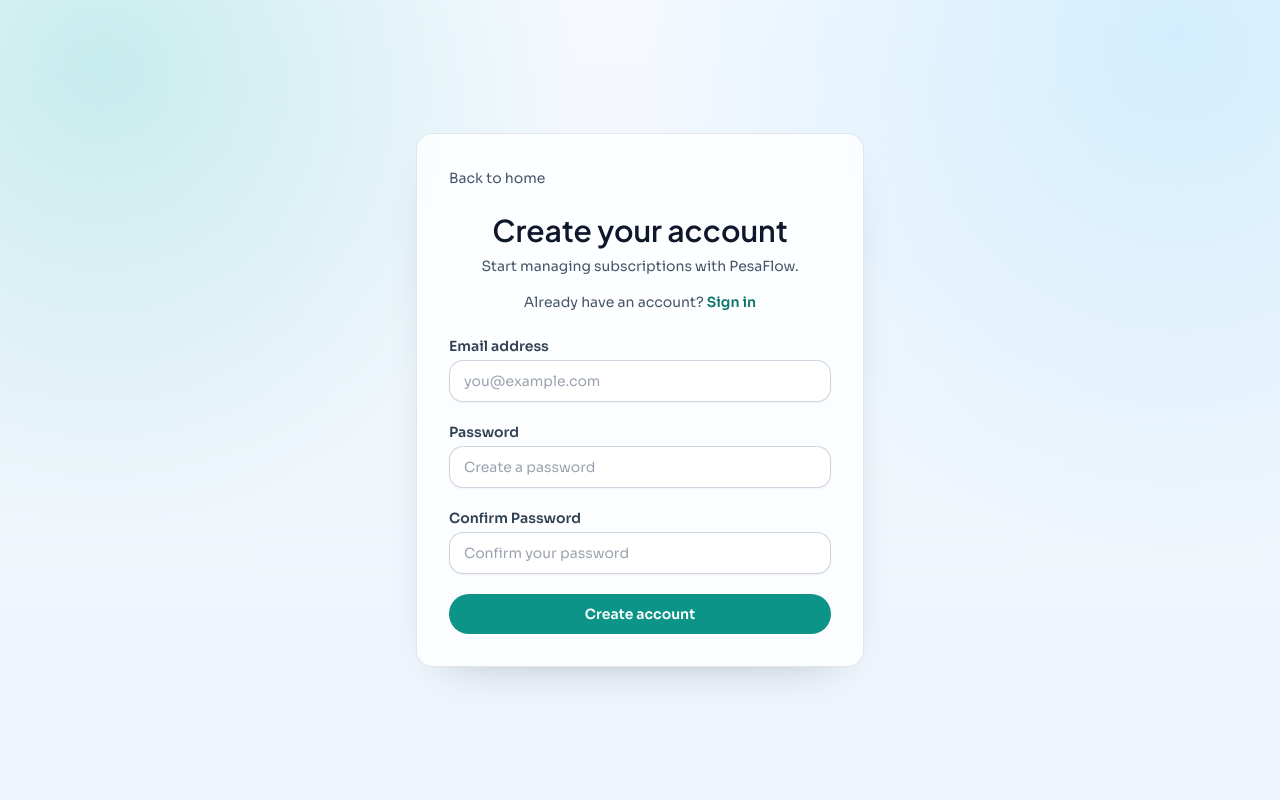
Test: SignupPage › should show error when passwords do not match
Type "test@example.com" into the field labelled "Email address". click: (640, 381)
box: [449,360,831,402]
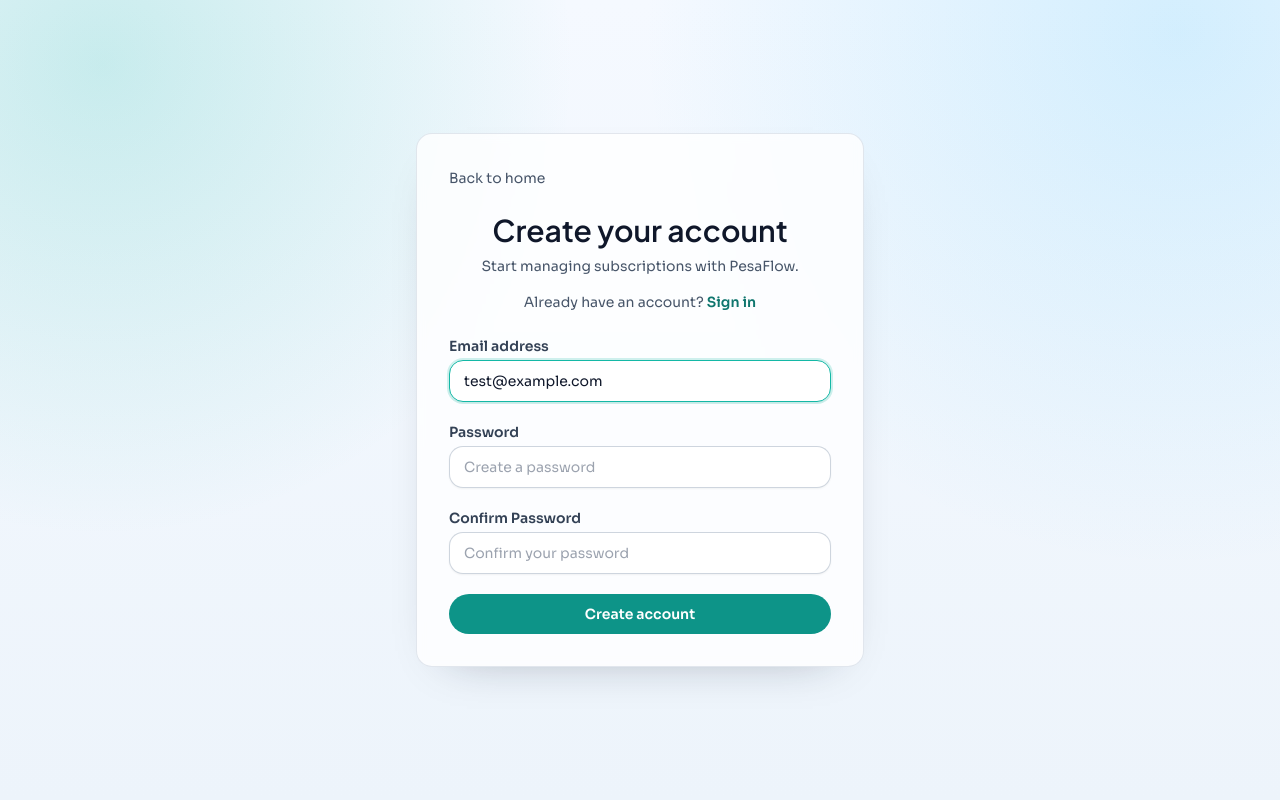
Type "password123" into the password field labelled "Password". click: (640, 467)
box: [449,446,831,488]
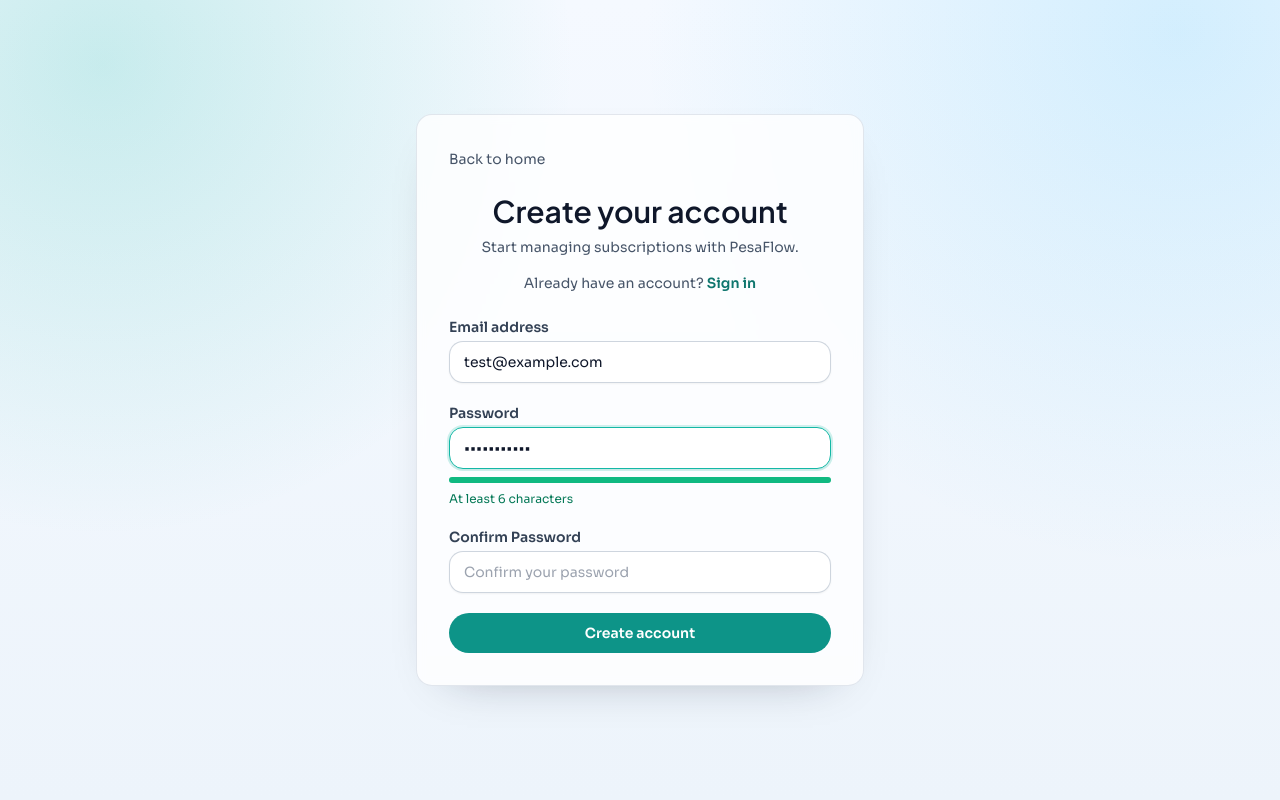
Type "differentpassword" into the password field labelled "Confirm Password". click: (640, 572)
box: [449,551,831,593]
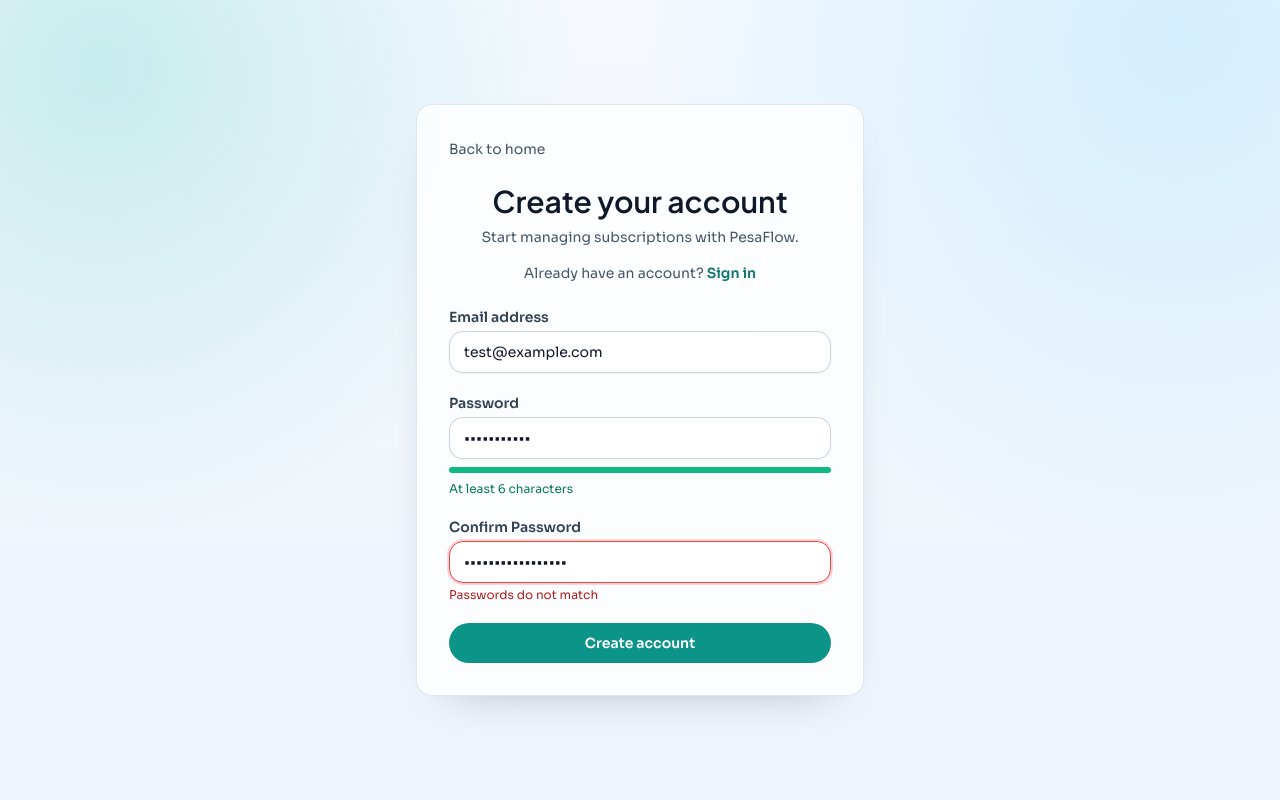
Click the button "Create account". click: click(640, 643)
box: [449,623,831,663]
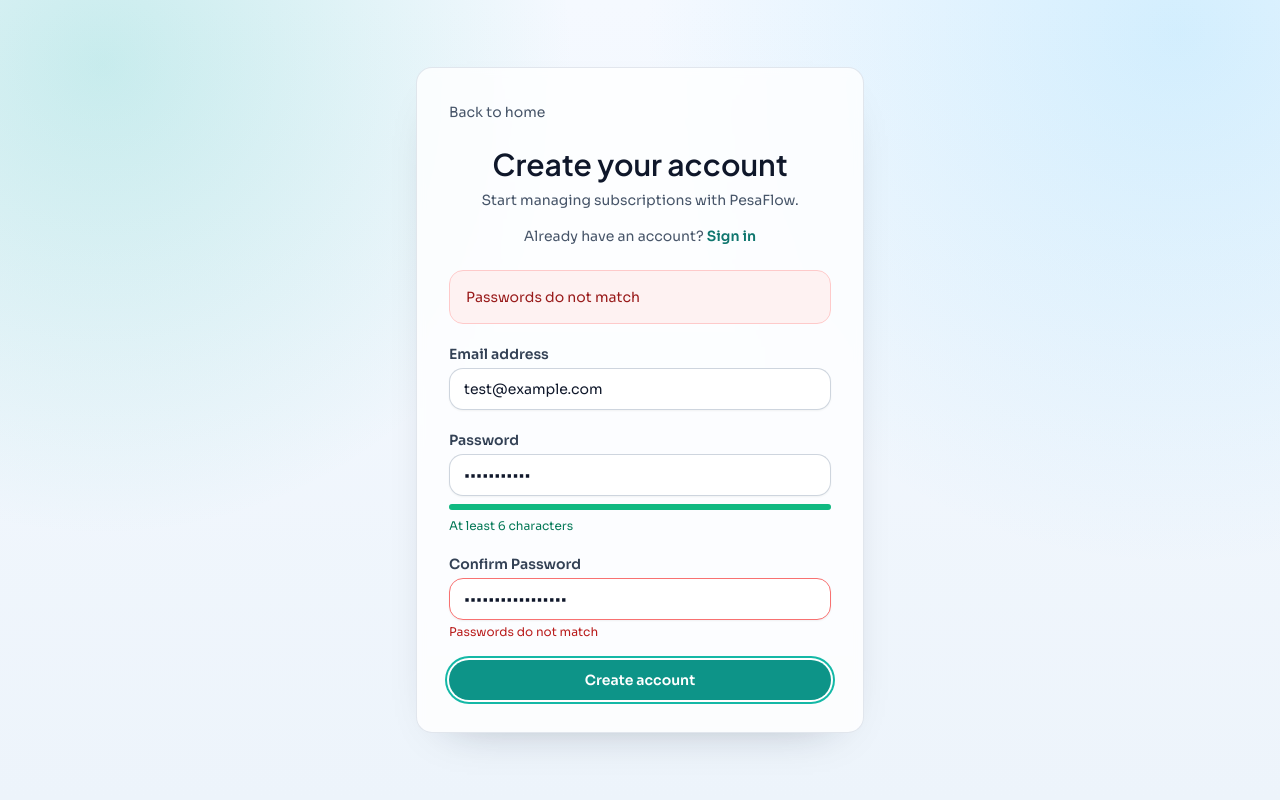
expect the 1st text "Passwords do not match" is shown: met, box [466,288,640,306]
